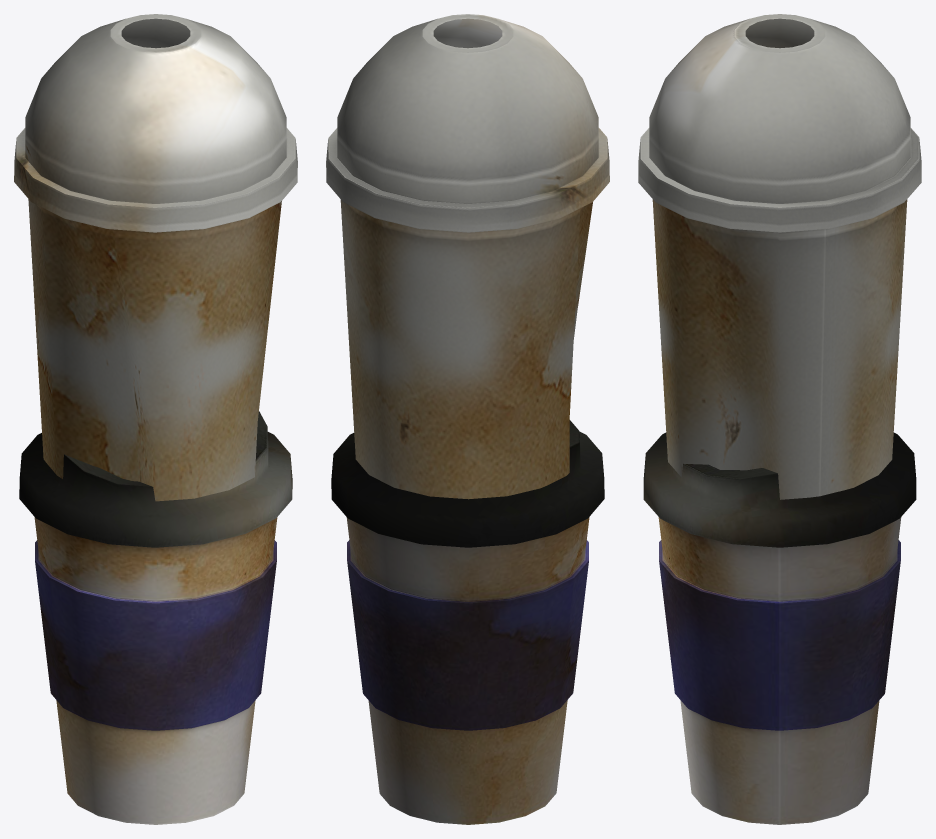
Rendered from trash_cup.fbx.
The picture shows the model from 3 angles, left to right: view 1: azimuth 30°, elevation 25°; view 2: azimuth 150°, elevation 25°; view 3: azimuth 270°, elevation 25°; orthographic projection.
Parts seen in each view (by area): view 1: trash_cup002, trash_cup001; view 2: trash_cup002, trash_cup001; view 3: trash_cup002, trash_cup001.
Boxes of the visible parts, x1,y1,x2,y2 form: trash_cup002: [14, 14, 297, 501]; trash_cup001: [19, 411, 292, 824]; trash_cup002: [326, 14, 609, 499]; trash_cup001: [331, 420, 604, 824]; trash_cup002: [638, 14, 921, 499]; trash_cup001: [643, 432, 916, 824].
Bounding box in the file's own units: 9.22 × 9.07 × 26.64.
